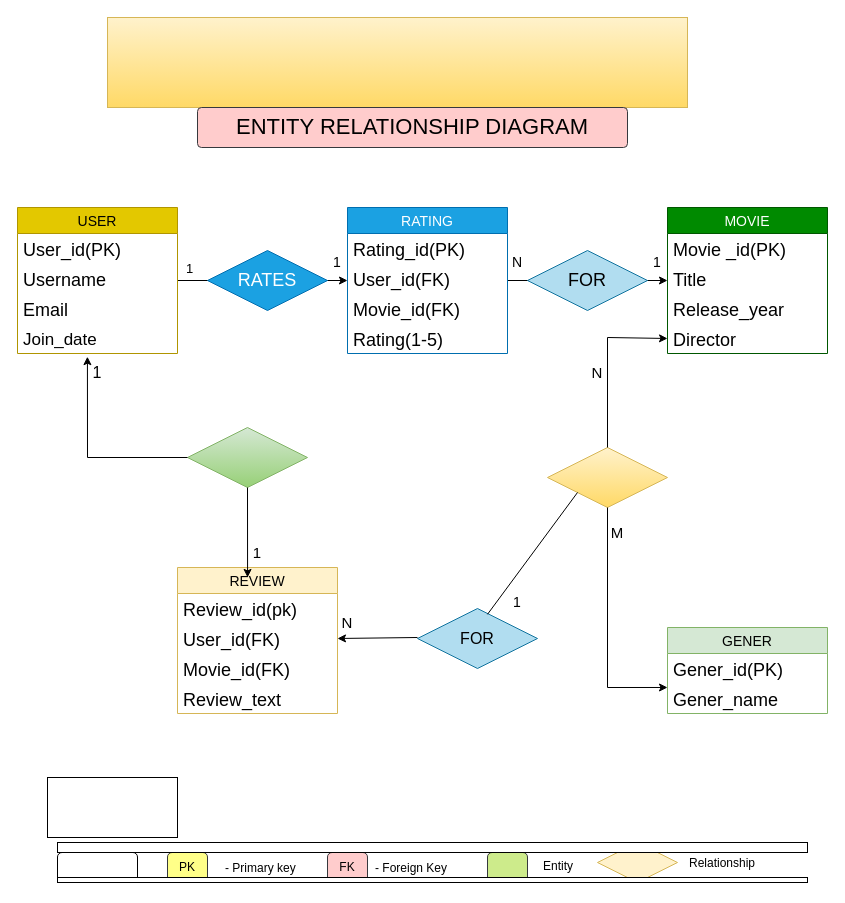
Some shapes in this 845 by 903 pixel diagram are drawn without their labels. The centre of each missing label's shape, as x and y in pixels:
"1 : ONE M : MANY" goes at point (112, 807).
"BELONGS_TO" goes at point (607, 477).
"LEGEND:" goes at point (97, 867).
"MOVIE RECOMMENDATION SYSTEM" goes at point (397, 62).
"WRITES" goes at point (247, 457).
